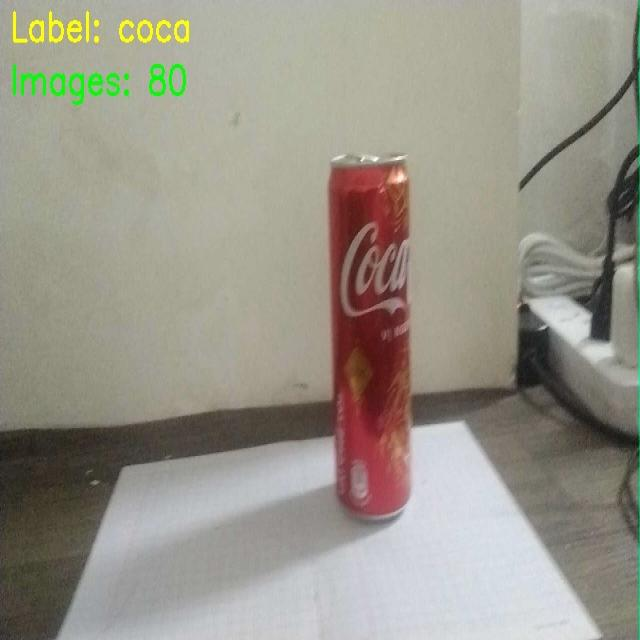Coca: (314, 112, 442, 546)
